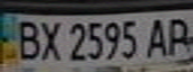2: (63, 18, 87, 62)
5: (118, 17, 145, 60), (84, 18, 106, 62)
9: (103, 18, 124, 61)
A: (142, 15, 172, 58)
B: (9, 17, 42, 61)
P: (163, 14, 193, 56)
X: (36, 17, 63, 62)
